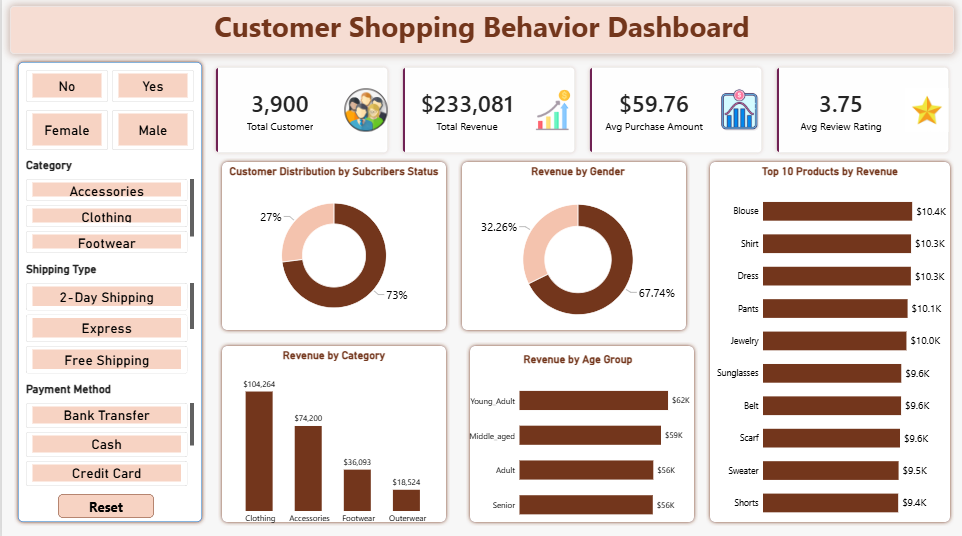

The page's visual inventory and layout, read from the dashboard file:
{"tool":"powerbi","page":{"name":"Page 1","canvas":[1920,1080],"ordinal":0},"visuals":[{"type":"shape","box":[24,120,384,936],"z":0},{"type":"shape","box":[1408,320,496,736],"z":1000},{"type":"shape","box":[912,320,464,352],"z":2000},{"type":"shape","box":[928,688,464,368],"z":3000},{"type":"shape","box":[432,688,464,368],"z":4000},{"type":"shape","box":[432,320,464,352],"z":5000},{"type":"cardVisual","fields":{"Data":["public customer.Total Customer","public customer.Total Revenue","public customer.Avg Purchase Amount","public customer.Avg Review Rating"]},"box":[416,128,1488,192],"z":6000},{"type":"textbox","box":[16,16,1888,96],"z":7000},{"type":"clusteredColumnChart","title":"Revenue by Category","fields":{"Category":["public customer.category"],"Y":["public customer.Total Revenue"]},"box":[432,688,464,384],"z":8000},{"type":"donutChart","title":"Customer Distribution by Subcribers Status","fields":{"Category":["public customer.subscription_status"],"Y":["public customer.Total Customer"]},"box":[432,320,464,352],"z":9000},{"type":"clusteredBarChart","title":"Revenue by Age Group","fields":{"Category":["public customer.age_group"],"Y":["public customer.Total Revenue"]},"box":[912,696,480,384],"z":10000},{"type":"donutChart","title":"Revenue by Gender","fields":{"Category":["public customer.gender"],"Y":["public customer.Total Revenue"]},"box":[912,320,480,368],"z":11000},{"type":"clusteredBarChart","title":"Top 10 Products by Revenue","fields":{"Category":["public customer.item_purchased"],"Y":["public customer.Total Revenue"]},"box":[1408,320,496,752],"z":12000},{"type":"advancedSlicerVisual","fields":{"Values":["public customer.subscription_status"]},"box":[48,144,336,64],"z":13000},{"type":"advancedSlicerVisual","fields":{"Values":["public customer.gender"]},"box":[48,224,336,80],"z":14000},{"type":"advancedSlicerVisual","title":"Category","fields":{"Values":["public customer.category"]},"box":[48,320,336,192],"z":15000},{"type":"advancedSlicerVisual","title":"Shipping Type","fields":{"Values":["public customer.shipping_type"]},"box":[48,528,336,224],"z":16000},{"type":"advancedSlicerVisual","title":"Payment Method","fields":{"Values":["public customer.payment_method"]},"box":[48,768,336,208],"z":17000},{"type":"actionButton","box":[112,992,192,48],"z":18000}]}

Visuals, with their boxes in screenshot pixels (x1, y1, x2, y2), scaled from the page's 1920x1080 canvas onto the 962x536 screenshot:
shape: 12/60/204/524
shape: 705/159/954/524
shape: 457/159/689/334
shape: 465/341/697/524
shape: 216/341/449/524
shape: 216/159/449/334
cardVisual - public customer.Total Customer x public customer.Total Revenue: 208/64/954/159
textbox: 8/8/954/56
"Revenue by Category" clusteredColumnChart: 216/341/449/532
"Customer Distribution by Subcribers Status" donutChart: 216/159/449/334
"Revenue by Age Group" clusteredBarChart: 457/345/697/535
"Revenue by Gender" donutChart: 457/159/697/341
"Top 10 Products by Revenue" clusteredBarChart: 705/159/954/532
advancedSlicerVisual - public customer.subscription_status: 24/71/192/103
advancedSlicerVisual - public customer.gender: 24/111/192/151
"Category" advancedSlicerVisual: 24/159/192/254
"Shipping Type" advancedSlicerVisual: 24/262/192/373
"Payment Method" advancedSlicerVisual: 24/381/192/484
actionButton: 56/492/152/516
